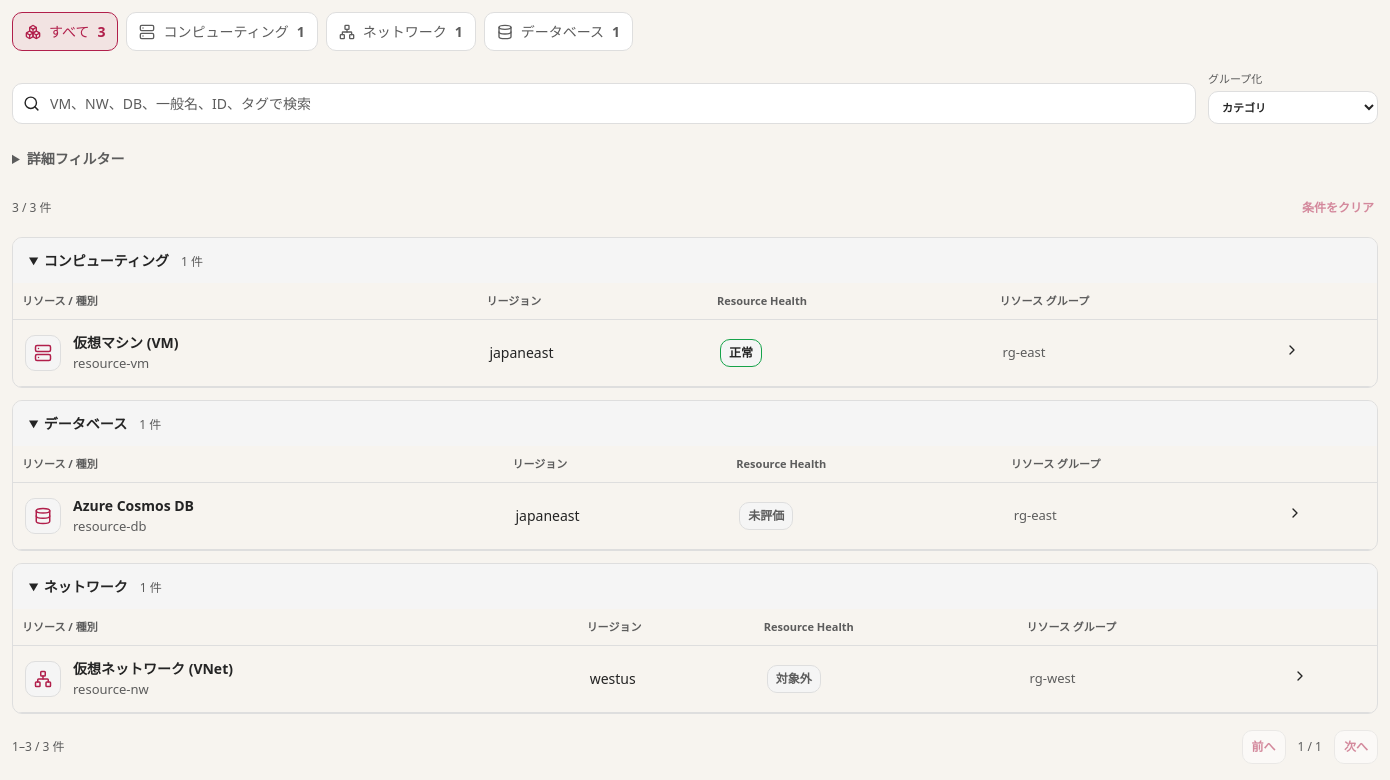
Resource explorer › combines general-name search and filters and resets empty results
Type "ＶＭ" into the field named "リソースを検索" at (616, 103), box [48, 92, 1185, 114]
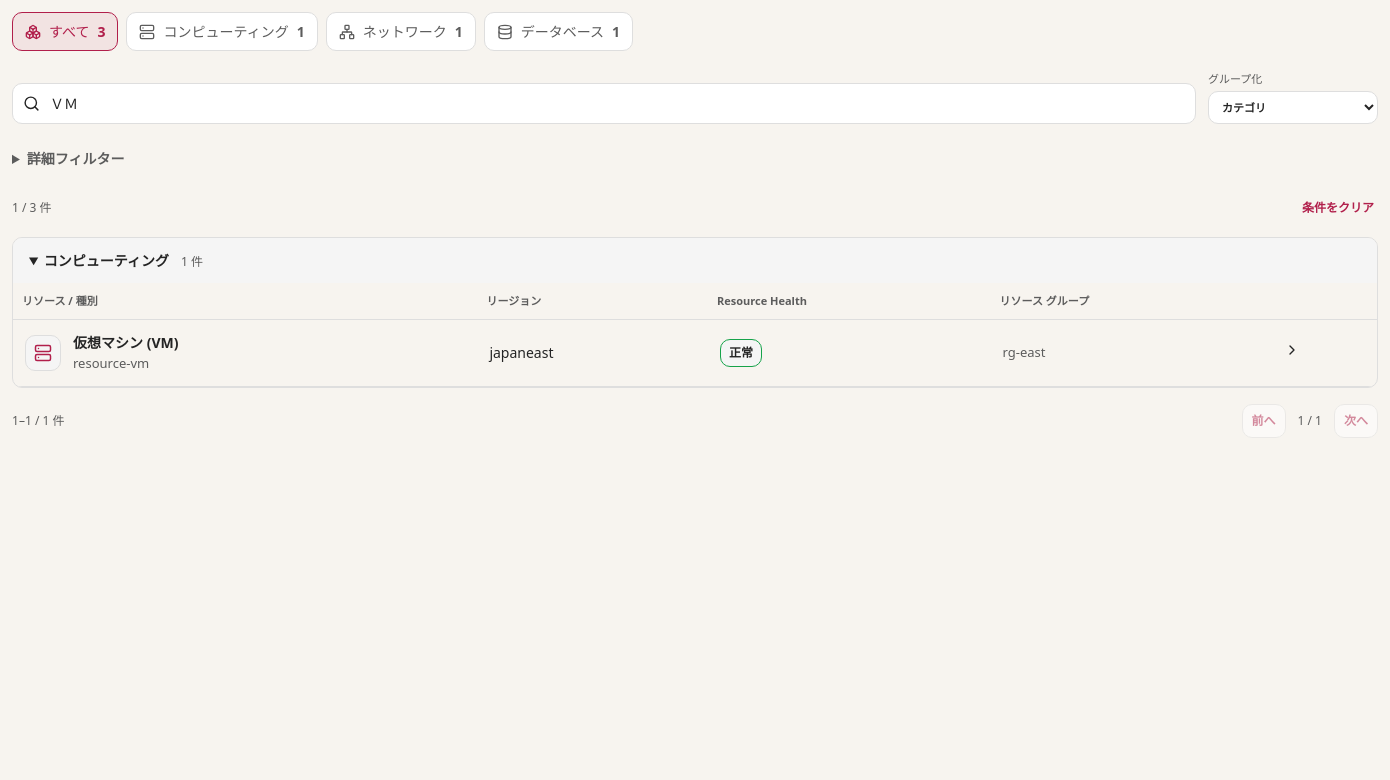
Expected: the text "仮想マシン (VM)" is shown, [73, 332, 178, 353]
Expected: the message reads "1 / 3 件", [12, 198, 52, 216]
Click the heading "詳細フィルター" at (76, 158), box [27, 148, 124, 168]
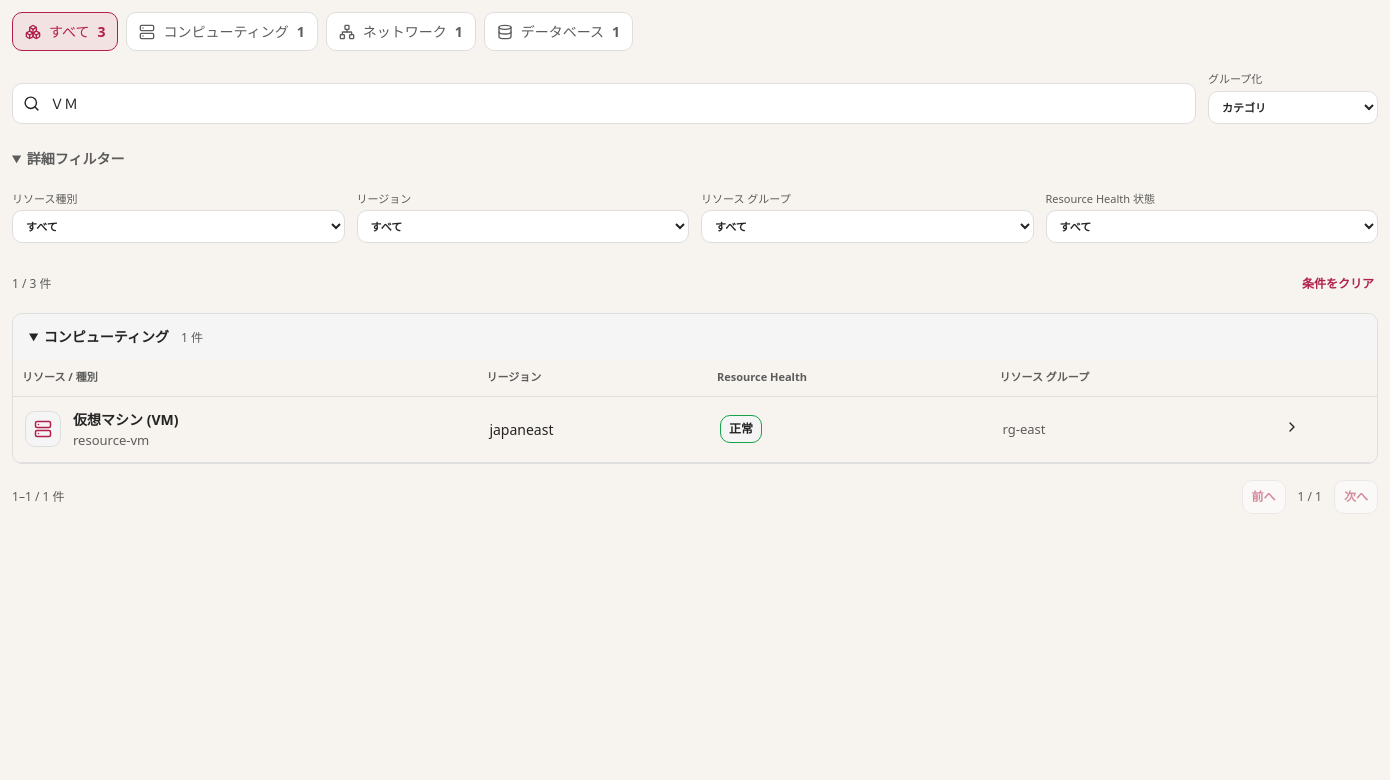
Select "westus" in the dropdown labelled "リージョン" at (523, 226), box [356, 210, 689, 243]
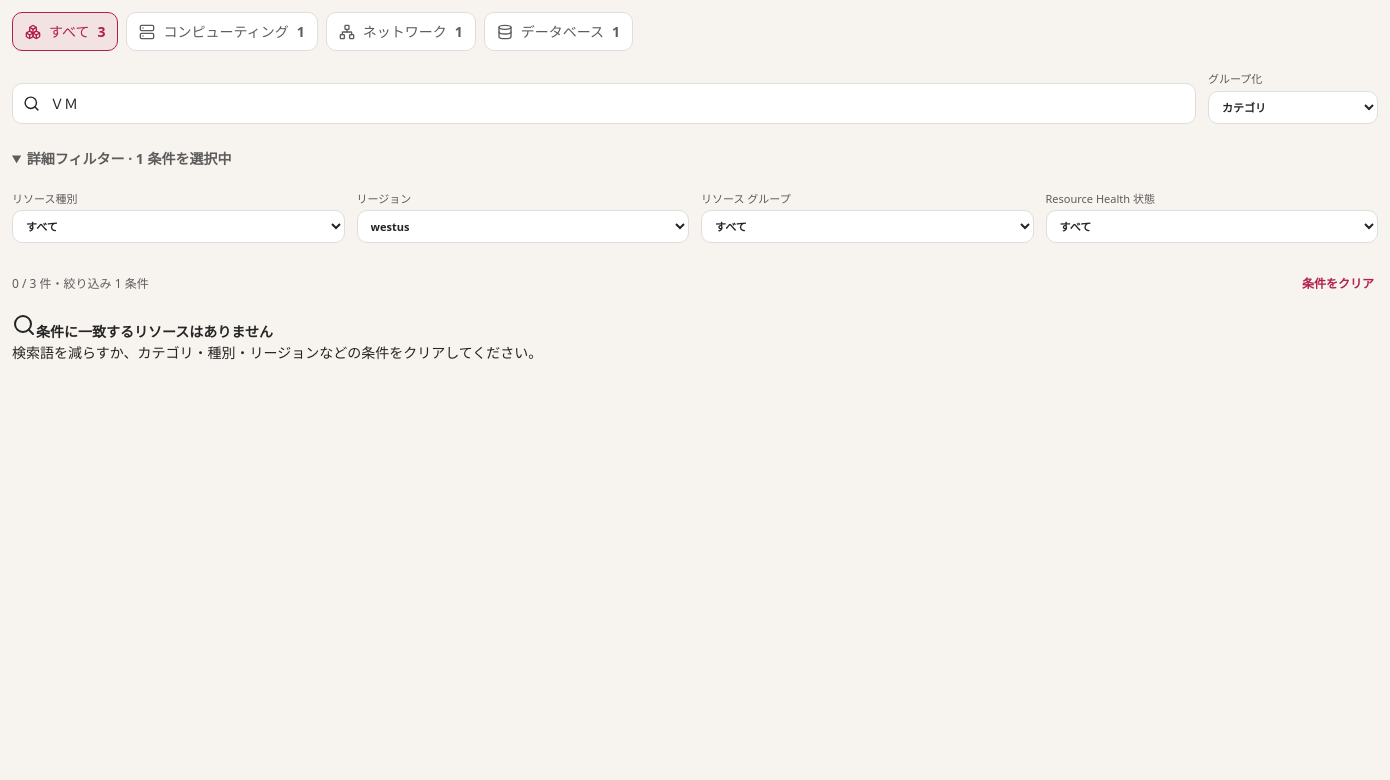
Expected: the text "条件に一致するリソースはありません" is shown, [36, 322, 273, 341]
Click the button "条件をクリア" at (1338, 284), box [1298, 271, 1378, 297]
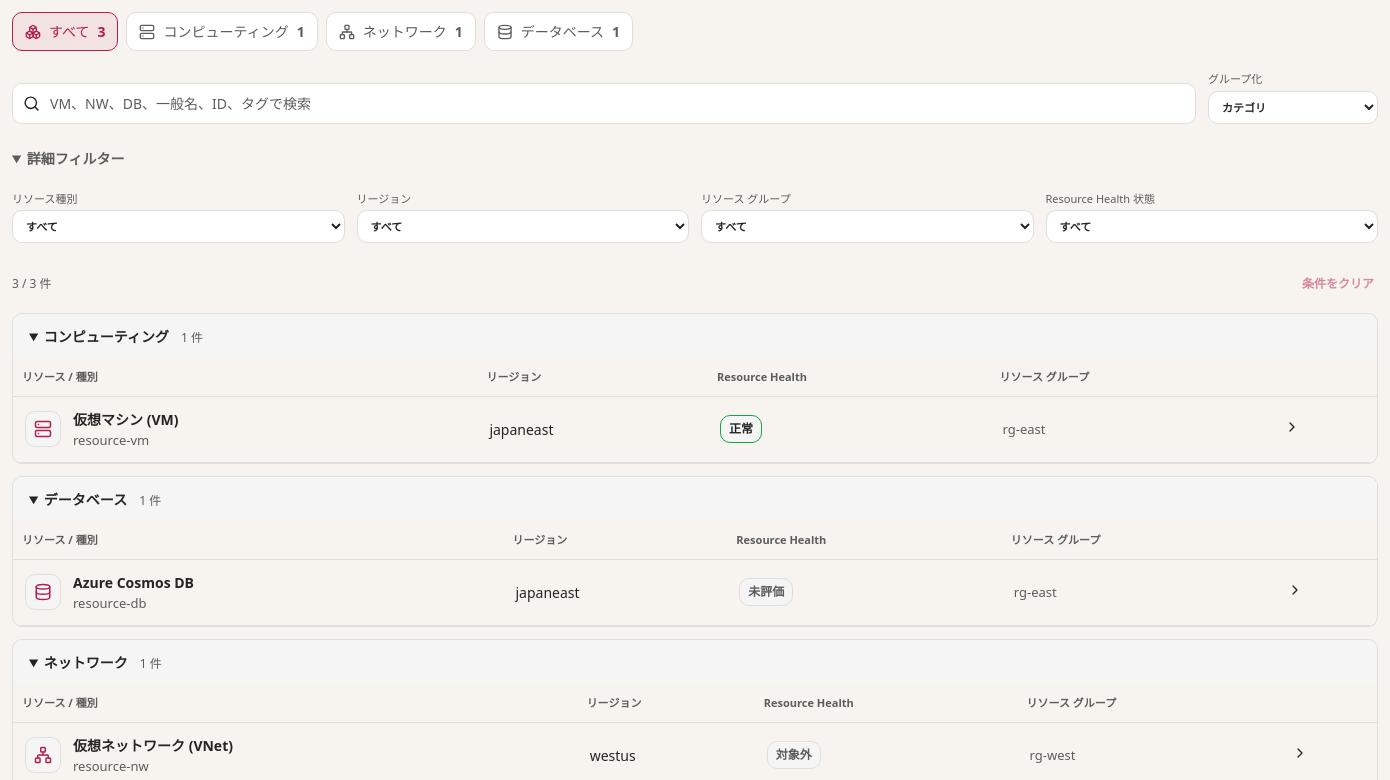
Expected: the message reads "3 / 3 件", [12, 275, 52, 293]
